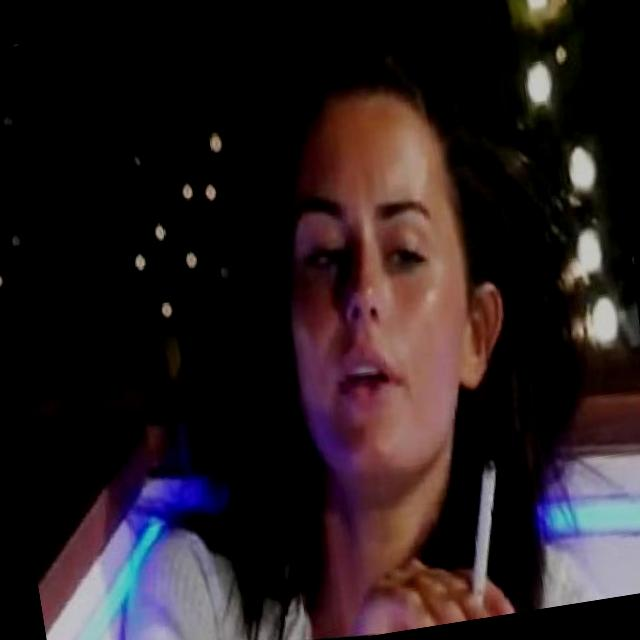cigarette: (449, 454, 525, 614)
